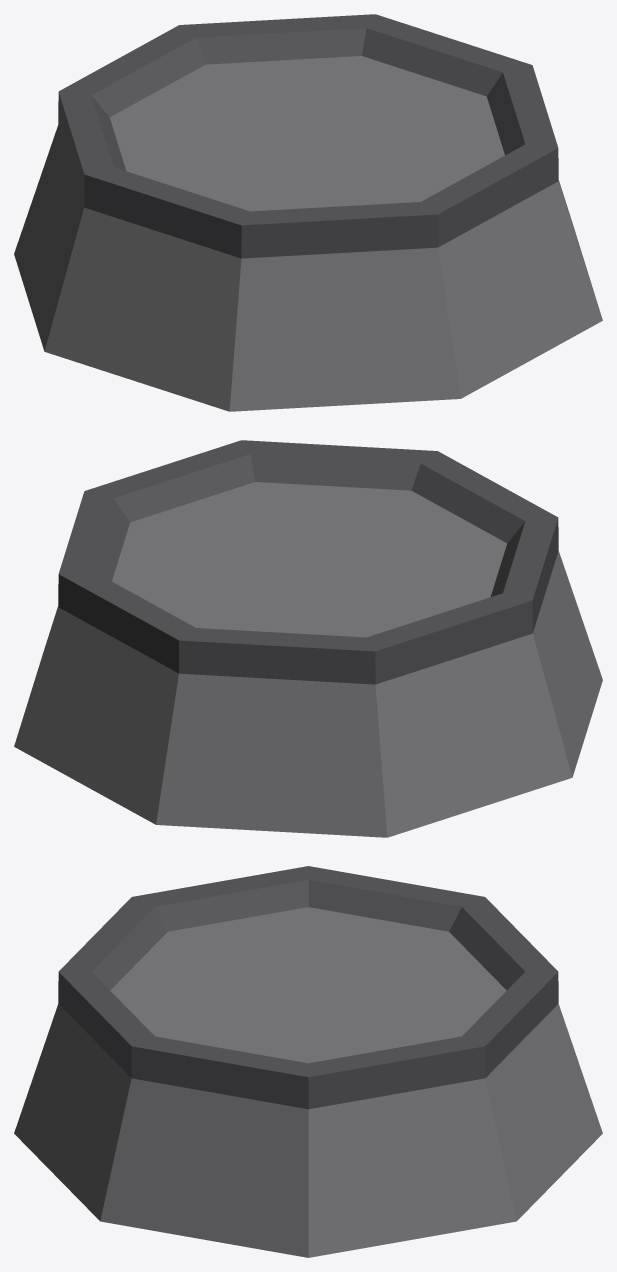
File: Fort_Tiny.fbx
The picture shows the model from 3 angles, top to bottom: view 1: azimuth 30°, elevation 25°; view 2: azimuth 150°, elevation 25°; view 3: azimuth 270°, elevation 25°; orthographic projection. The views are drawn at different scales.
Visible parts, largest first — view 1: SM_Bld_Pirate_Fort_03; view 2: SM_Bld_Pirate_Fort_03; view 3: SM_Bld_Pirate_Fort_03.
Part boxes in pixels (x1,y1,x2,y2): SM_Bld_Pirate_Fort_03: (14, 14, 602, 411); SM_Bld_Pirate_Fort_03: (14, 440, 602, 837); SM_Bld_Pirate_Fort_03: (14, 866, 602, 1257).
Bounding box in the file's own units: 215 × 65.16 × 215.
